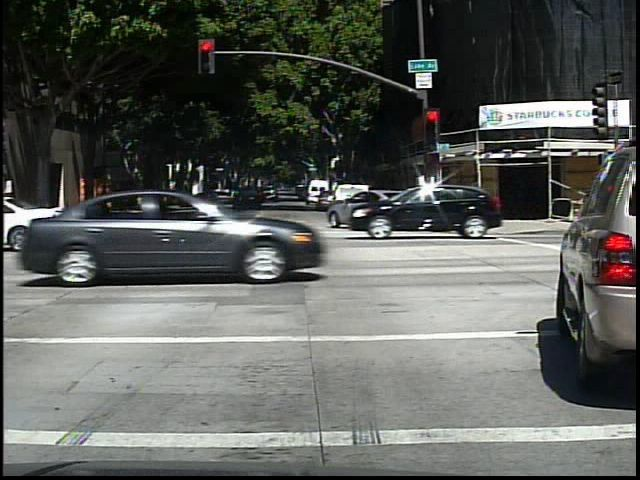person: (95, 186, 110, 220)
